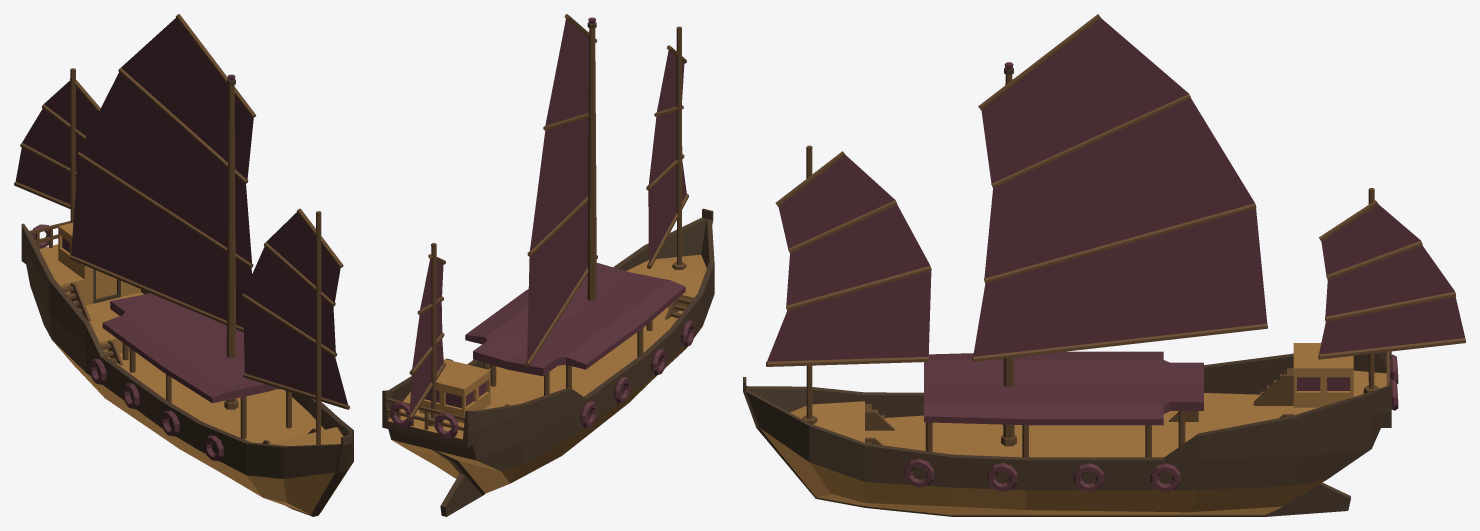
Rendered from Ship.fbx.
3 renders of one model, left to right at view 1: azimuth 30°, elevation 25°; view 2: azimuth 150°, elevation 25°; view 3: azimuth 270°, elevation 25°, orthographic. The views are drawn at different scales.
Visible parts, largest first — view 1: boat-china; view 2: boat-china; view 3: boat-china.
Boxes of the visible parts, left/top/right/bottom form: boat-china: left=14, top=14, right=353, bottom=516; boat-china: left=382, top=14, right=714, bottom=516; boat-china: left=743, top=14, right=1465, bottom=516.
Size of the model in its own units: 5.37 by 16.38 by 21.73.
